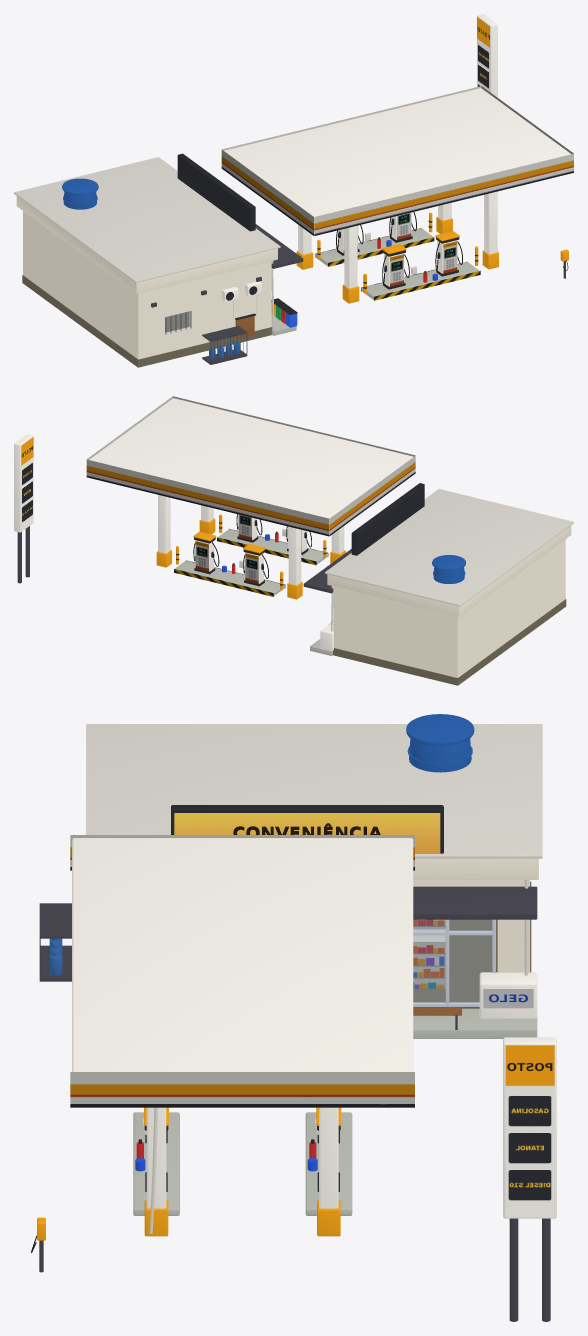
Rendered from posto.glb.
The picture shows the model from 3 angles, top to bottom: view 1: azimuth 30°, elevation 25°; view 2: azimuth 150°, elevation 25°; view 3: azimuth 270°, elevation 25°; orthographic projection. The views are drawn at different scales.
Visible parts, largest first — view 1: posto_branco, posto_cinza_claro, posto_faixa_cobertura, posto_escuro, posto_bomba_frente, posto_zebrada, posto_luz_totem; view 2: posto_branco, posto_cinza_claro, posto_faixa_cobertura, posto_escuro, posto_luz_totem, posto_bomba_frente, posto_zebrada; view 3: posto_branco, posto_cinza_claro, posto_faixa_cobertura, posto_luz_totem, posto_luz_letreiro, posto_vidro_loja, posto_escuro, posto_produtos, posto_gelo.
Part boxes in pixels (box(x1,y1,x2,y2)): posto_branco: box(16, 14, 570, 367); posto_cinza_claro: box(14, 157, 497, 327); posto_faixa_cobertura: box(221, 86, 573, 235); posto_escuro: box(177, 153, 568, 320); posto_bomba_frente: box(343, 212, 457, 286); posto_zebrada: box(315, 228, 480, 300); posto_luz_totem: box(477, 17, 489, 91); posto_branco: box(14, 398, 571, 685); posto_cinza_claro: box(239, 489, 573, 631); posto_faixa_cobertura: box(86, 396, 415, 536); posto_escuro: box(176, 483, 424, 586); posto_luz_totem: box(21, 437, 33, 531); posto_bomba_frente: box(195, 514, 301, 583); posto_zebrada: box(174, 528, 328, 596); posto_branco: box(37, 714, 556, 1321); posto_cinza_claro: box(86, 724, 542, 1233); posto_faixa_cobertura: box(70, 835, 414, 1107); posto_luz_totem: box(505, 1045, 554, 1217); posto_luz_letreiro: box(174, 813, 440, 853); posto_vidro_loja: box(413, 920, 491, 1002); posto_escuro: box(31, 805, 443, 1252); posto_produtos: box(413, 919, 445, 988); posto_gelo: box(483, 989, 533, 1008).
Size of the model in its own units: 28.48 by 8.61 by 14.64.
Materials: 16 (16 with a texture image).
